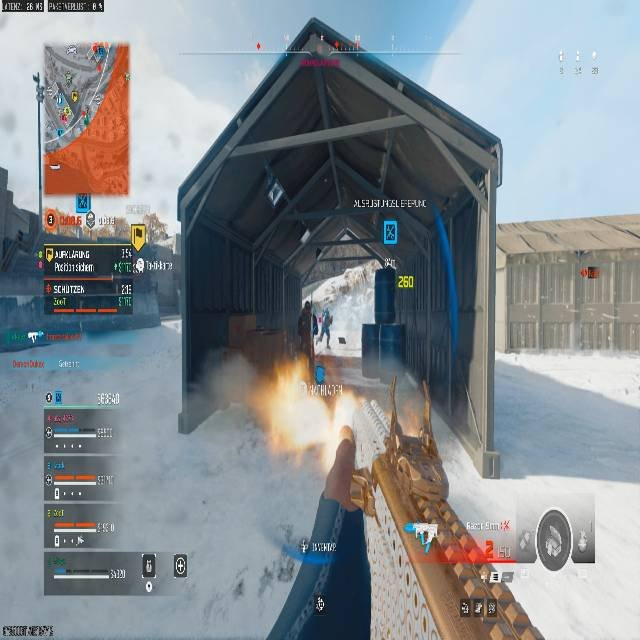head: (323, 307, 329, 314)
player: (315, 307, 332, 348)
